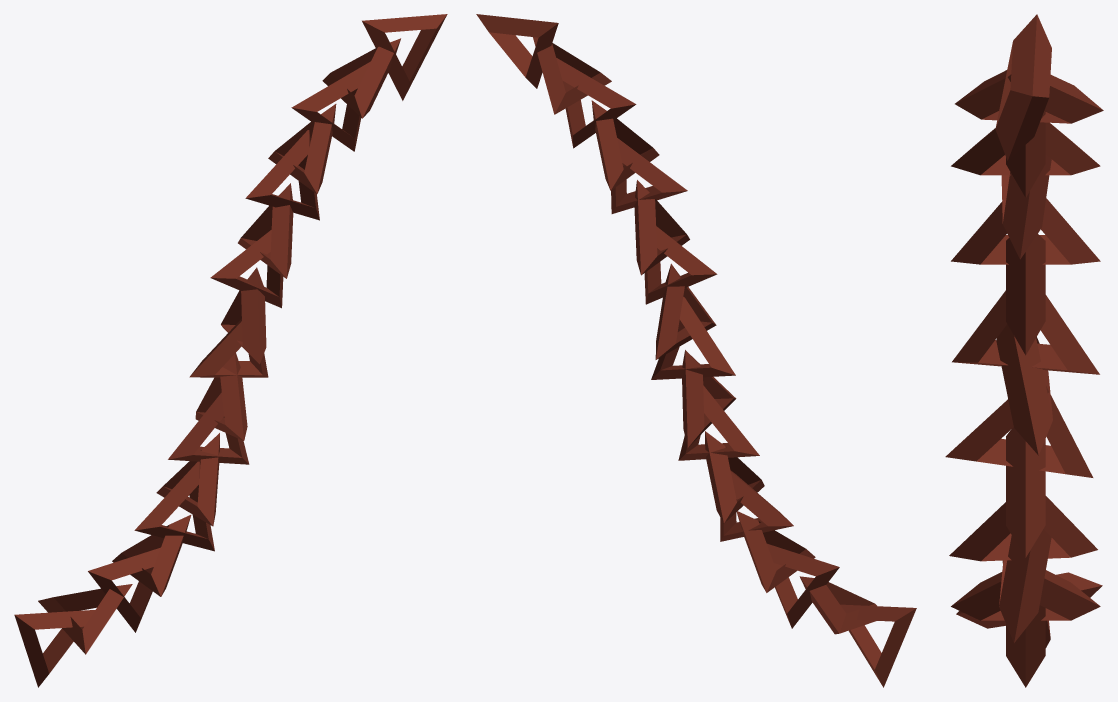
File: Chain_5_Red.fbx
The picture shows the model from 3 angles, left to right: view 1: azimuth 30°, elevation 25°; view 2: azimuth 150°, elevation 25°; view 3: azimuth 270°, elevation 25°; orthographic projection. The views are drawn at different scales.
Parts seen in each view (by area): view 1: Chain_5_Red; view 2: Chain_5_Red; view 3: Chain_5_Red.
Boxes of the visible parts, x1=… form: Chain_5_Red: x1=14, y1=14, x2=447, y2=687; Chain_5_Red: x1=476, y1=14, x2=916, y2=687; Chain_5_Red: x1=945, y1=14, x2=1103, y2=687.
Size of the model in its own units: 79.34 by 102 by 16.35.
